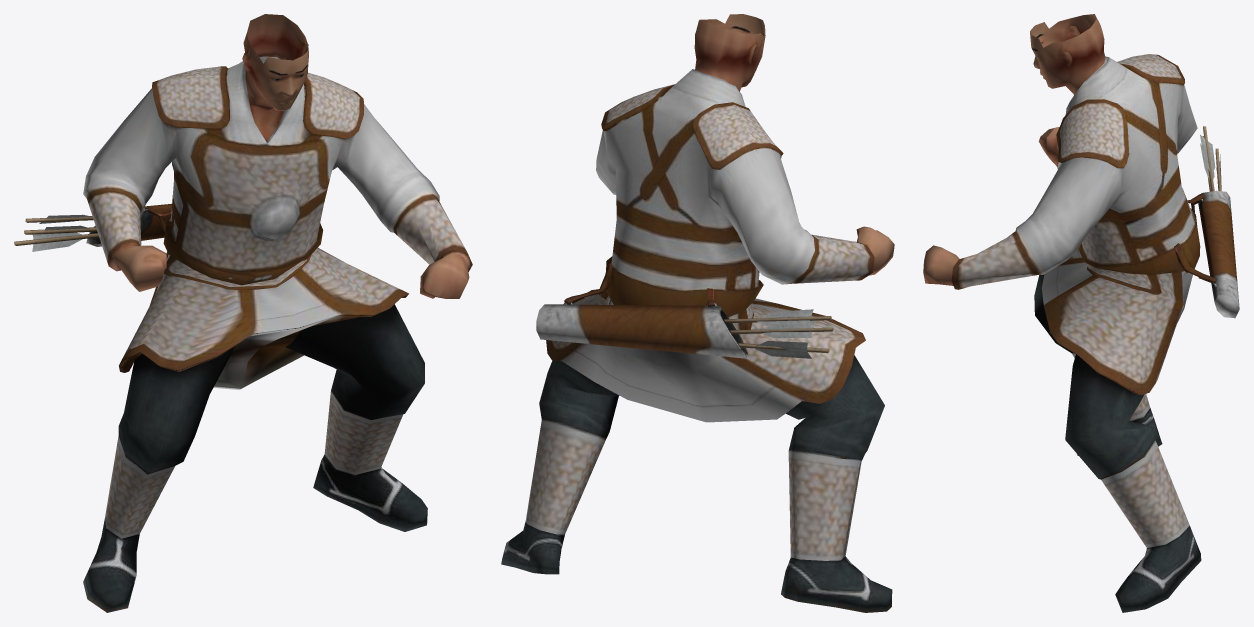
File: rider-slice-heavycavalry.glb
3 renders of one model, left to right at view 1: azimuth 30°, elevation 25°; view 2: azimuth 150°, elevation 25°; view 3: azimuth 270°, elevation 25°, orthographic. The views are drawn at different scales.
Size of the model in its own units: 1.21 by 1.79 by 0.9942.
1 material, 1 textured.
